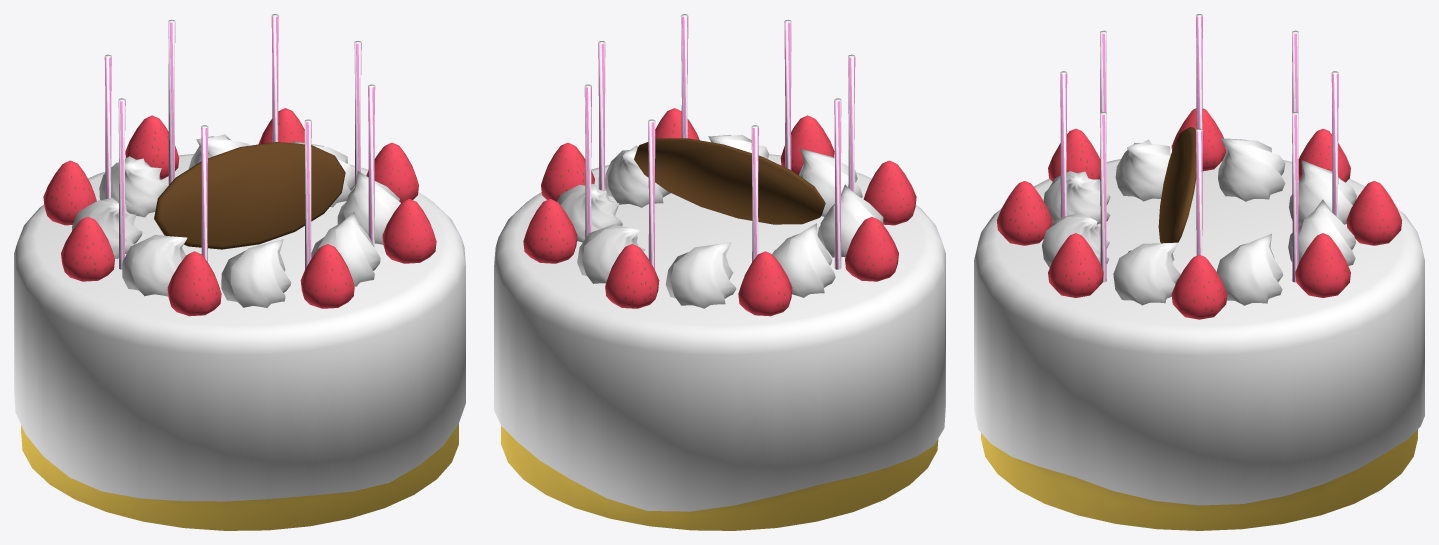
File: Cake.fbx
3 renders of one model, left to right at view 1: azimuth 30°, elevation 25°; view 2: azimuth 150°, elevation 25°; view 3: azimuth 270°, elevation 25°, orthographic.
Visible parts, largest first — view 1: Cake, Plate; view 2: Cake, Plate; view 3: Cake, Plate.
Part boxes in pixels (x1,y1,x2,y2): Cake: (14,14,465,530); Plate: (154,142,345,249); Cake: (494,14,945,530); Plate: (634,138,825,224); Cake: (974,14,1424,530); Plate: (1158,127,1196,243).
Bounding box in the file's own units: 30.96 × 27.71 × 30.96.
